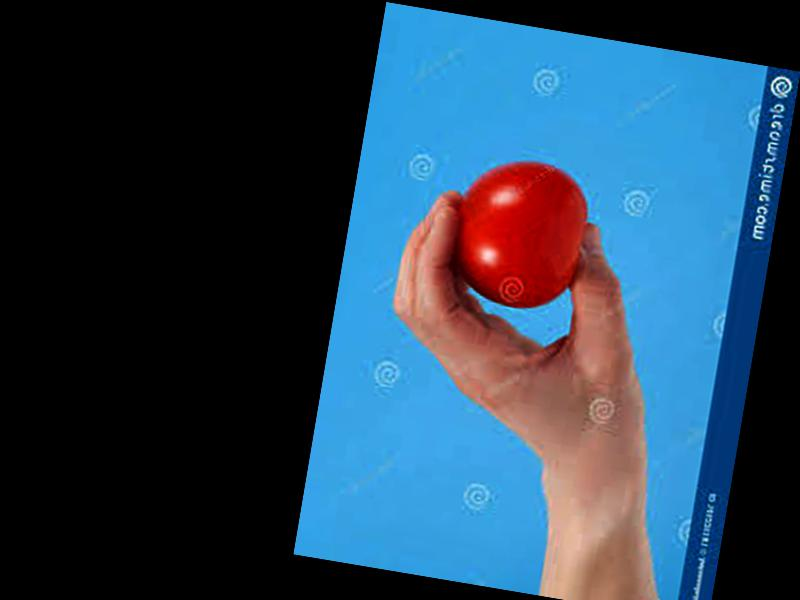Tomato: (442, 151, 594, 315)
